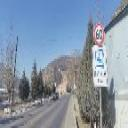speed_limit_60: (93, 21, 105, 45)
